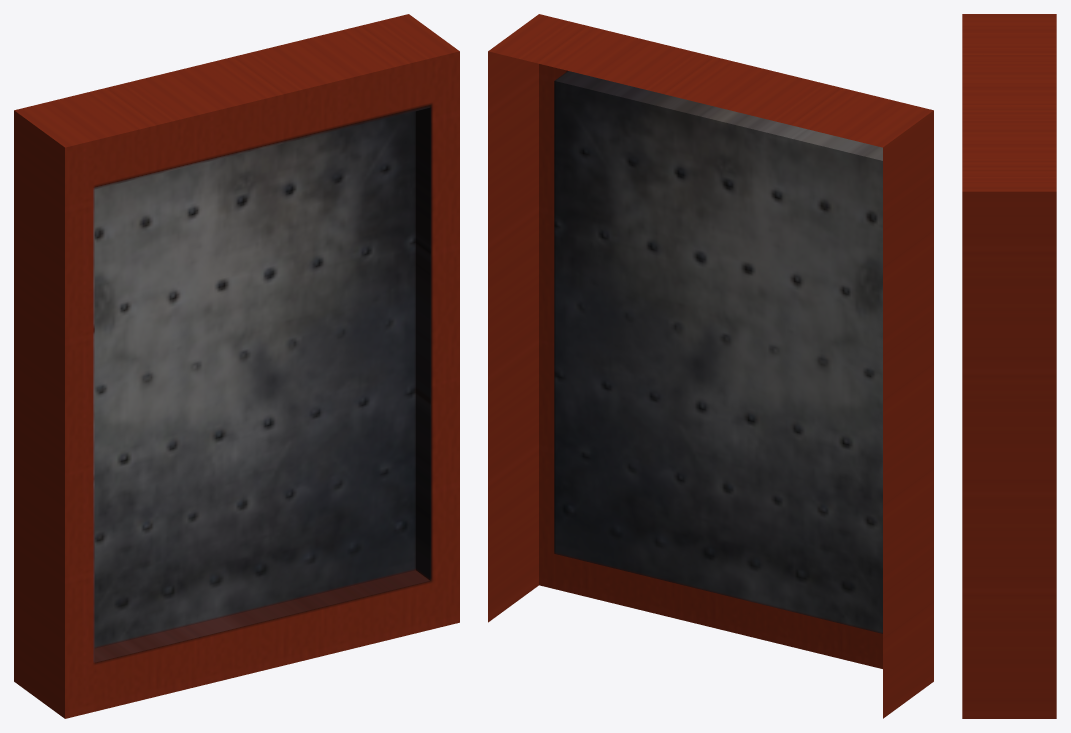
The model's file is castle_break4.fbx.
The picture shows the model from 3 angles, left to right: view 1: azimuth 30°, elevation 25°; view 2: azimuth 150°, elevation 25°; view 3: azimuth 270°, elevation 25°; orthographic projection. The views are drawn at different scales.
Parts seen in each view (by area): view 1: polySurface36; view 2: polySurface36; view 3: polySurface36.
Boxes of the visible parts, x1=… form: polySurface36: x1=14, y1=14, x2=459, y2=718; polySurface36: x1=488, y1=14, x2=933, y2=718; polySurface36: x1=962, y1=14, x2=1056, y2=718.
Size of the model in its own units: 0.5521 by 0.7636 by 0.1235.
